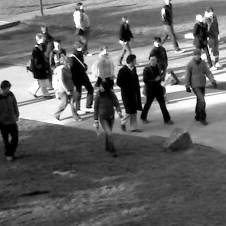person: (185, 49, 217, 125), (140, 55, 173, 124), (94, 80, 123, 158), (53, 54, 83, 122), (116, 54, 142, 131), (71, 40, 94, 113), (30, 32, 54, 100), (1, 80, 20, 162), (148, 36, 169, 103), (161, 1, 187, 55), (192, 14, 217, 70), (203, 6, 221, 67), (73, 2, 92, 56), (117, 15, 133, 66), (97, 45, 114, 91), (50, 38, 66, 69), (40, 22, 55, 44)
